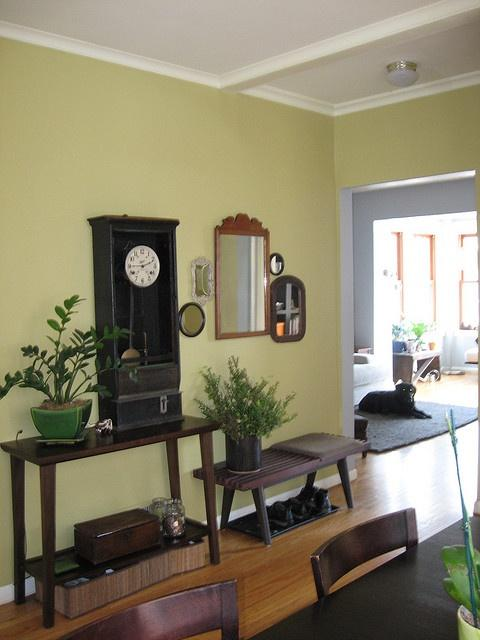Meja: (1, 411, 223, 498)
